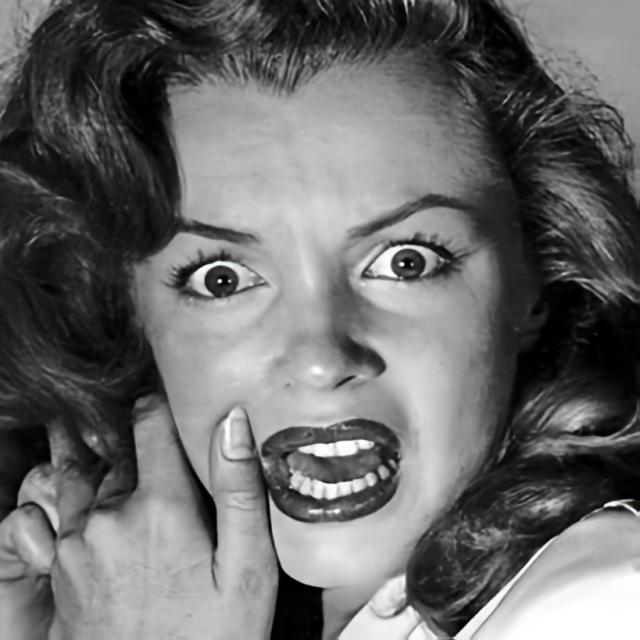fear: (129, 38, 531, 590)
